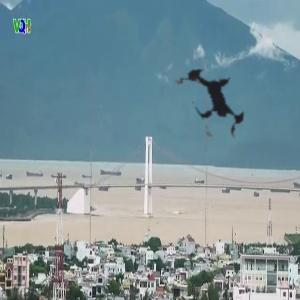drone: (153, 38, 282, 167)
